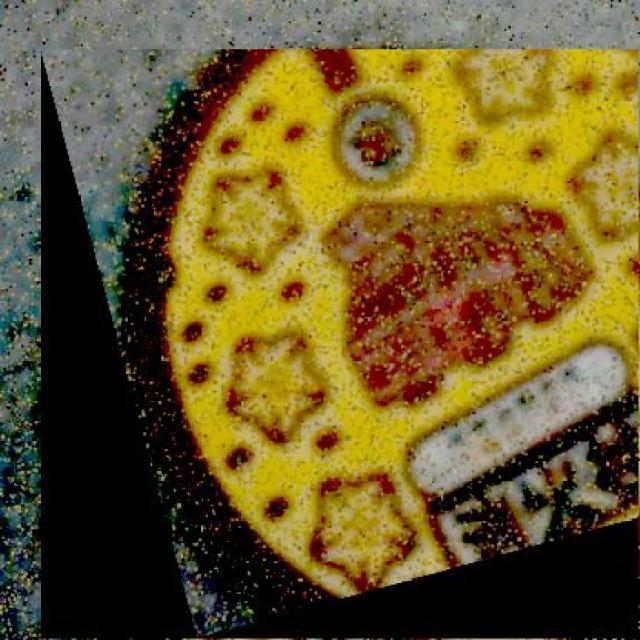Manhole: (39, 51, 638, 640)
